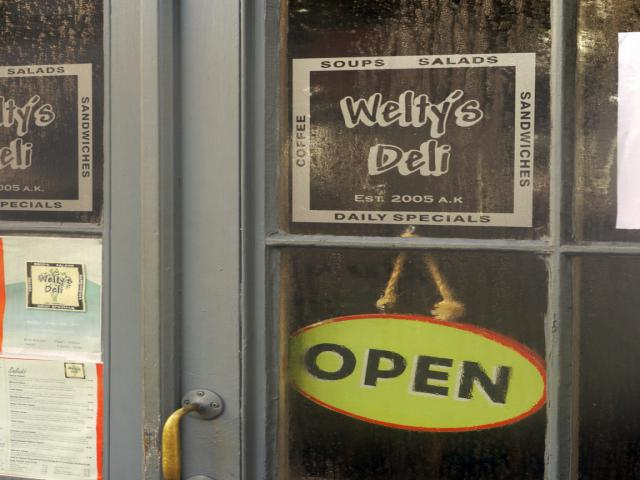Door-handle: (154, 388, 224, 480)
